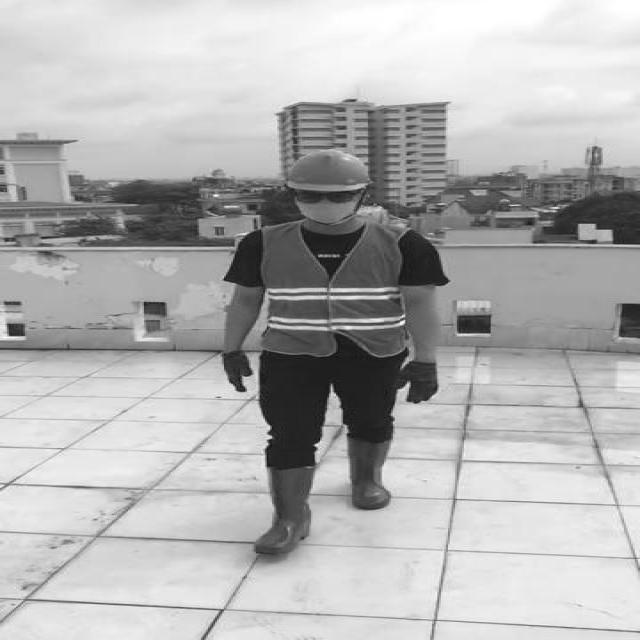boots: (252, 464, 316, 555), (347, 437, 393, 509)
face_mask: (292, 188, 366, 222)
glasses: (293, 186, 361, 207)
hand_glove: (394, 362, 442, 404), (222, 350, 252, 392)
head_helmet: (283, 148, 373, 192)
person: (212, 148, 452, 564)
vest: (256, 221, 411, 354)
